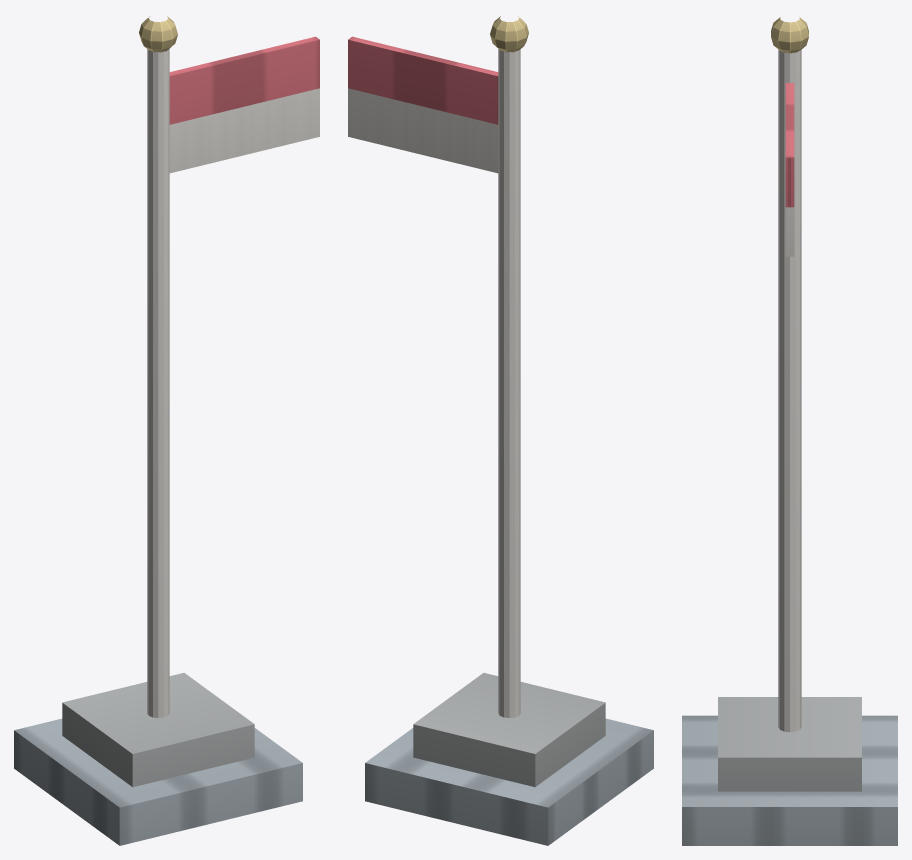
The model's file is flagpole_indonesia.glb.
3 renders of one model, left to right at view 1: azimuth 30°, elevation 25°; view 2: azimuth 150°, elevation 25°; view 3: azimuth 270°, elevation 25°, orthographic.
Visible parts, largest first — view 1: flagpole_indonesia; view 2: flagpole_indonesia; view 3: flagpole_indonesia.
Part boxes in pixels (<box>): flagpole_indonesia: <box>14,16,319,845</box>; flagpole_indonesia: <box>348,16,653,845</box>; flagpole_indonesia: <box>682,17,897,845</box>.
Bounding box in the file's own units: 2.05 × 6.02 × 1.5.
Materials: 1 (1 with a texture image).
